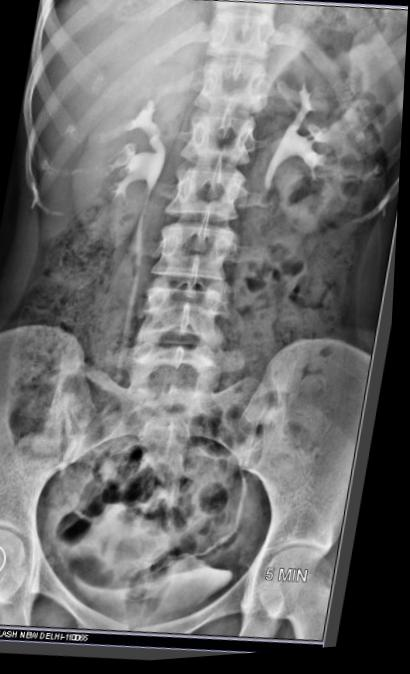bladder: (55, 510, 260, 657)
left kidney: (271, 53, 401, 253)
right kidney: (60, 65, 189, 264)
vertebrae: (189, 103, 277, 174)
